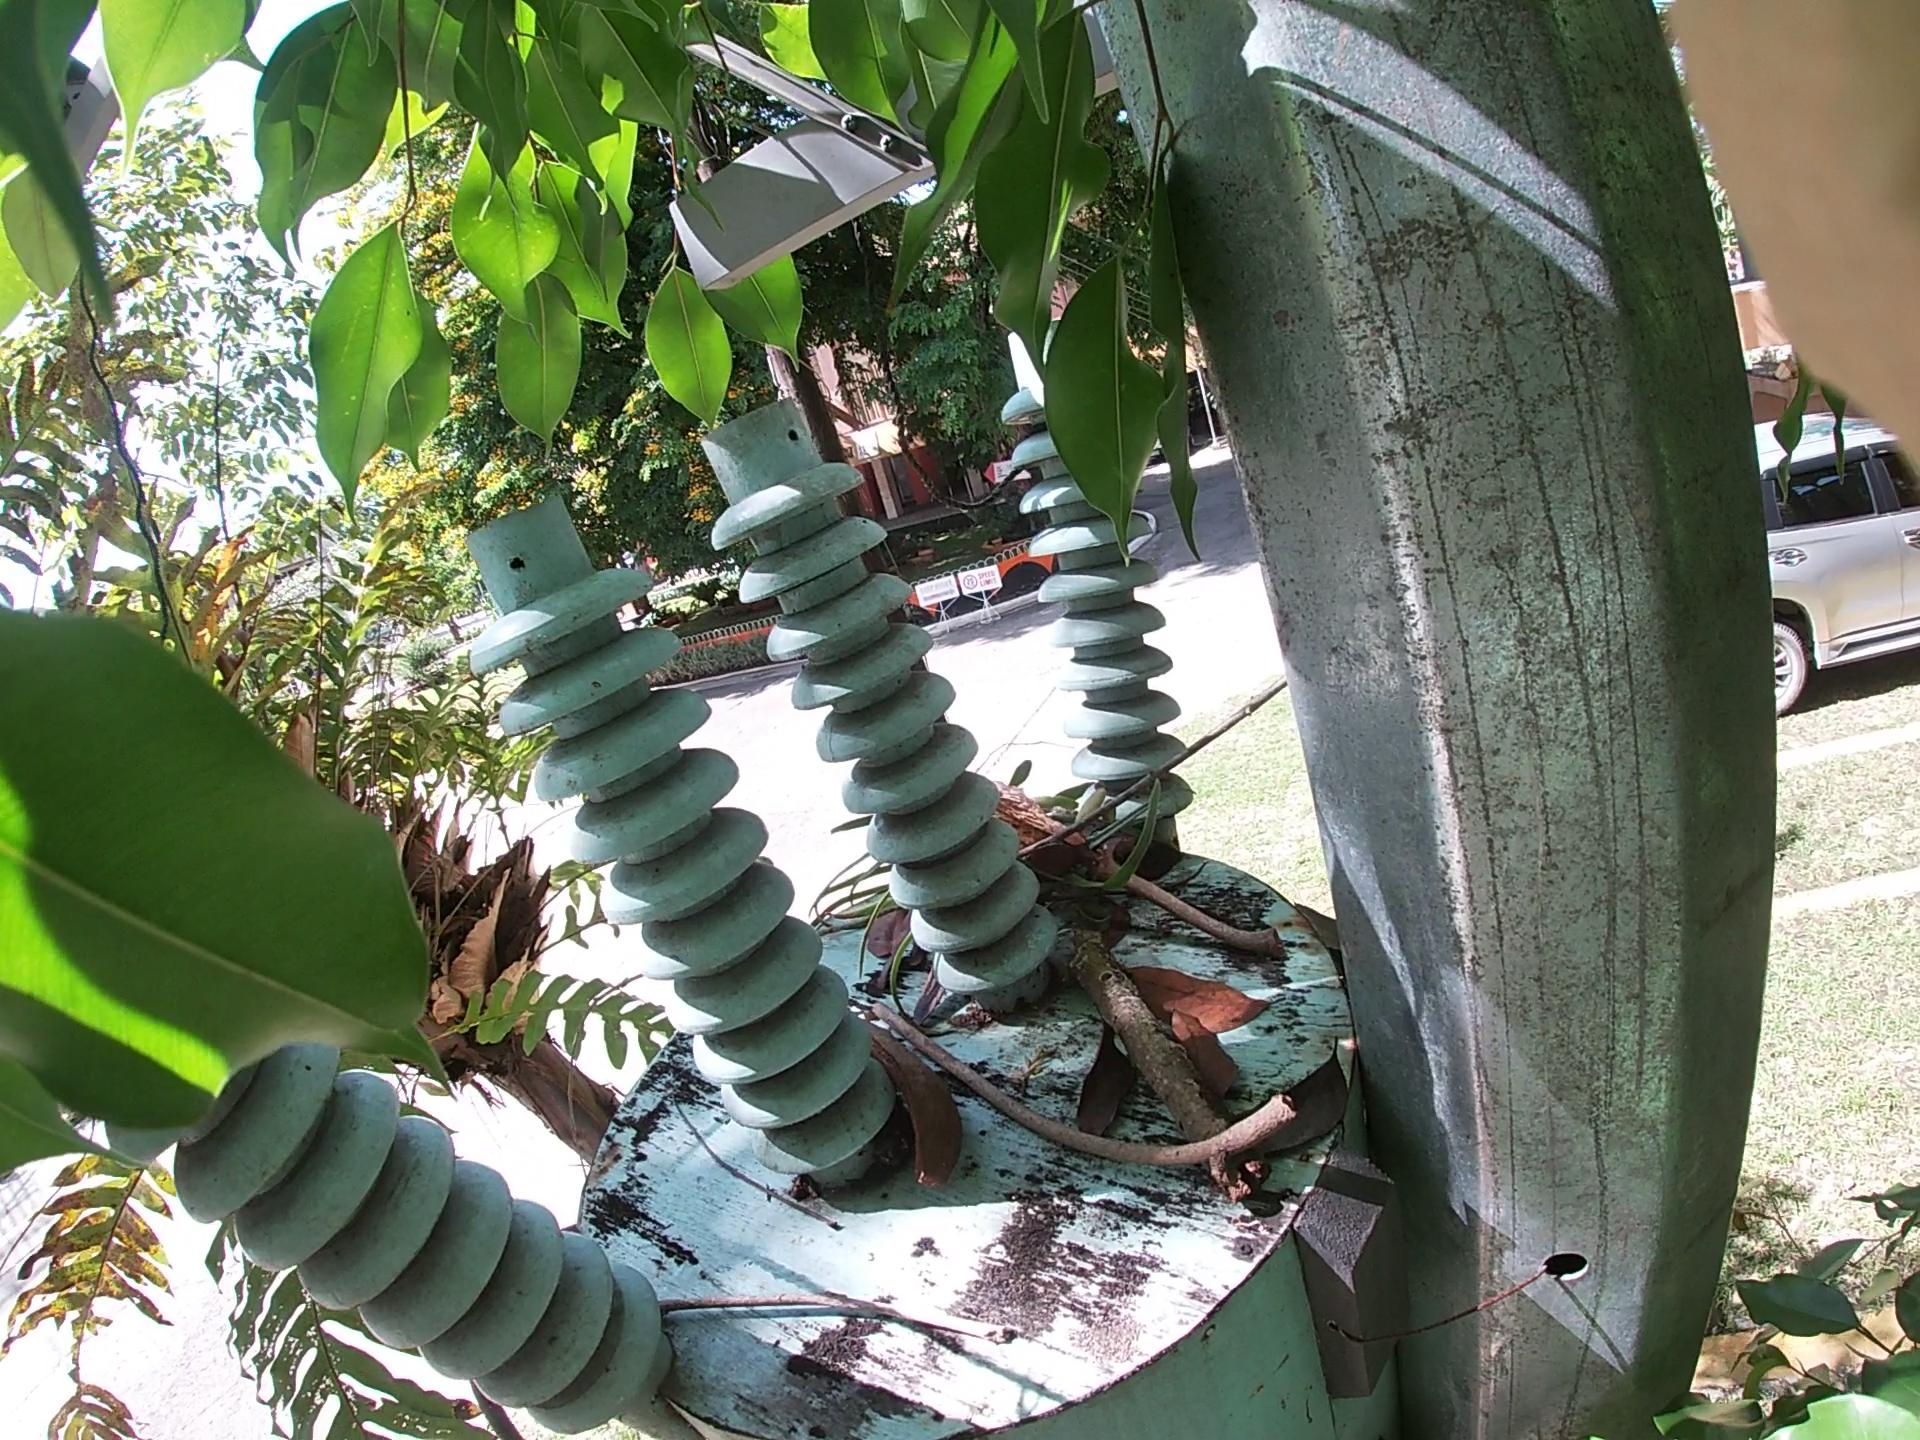branch with leaves: (931, 759, 1302, 1246)
leaf: (1119, 923, 1274, 1141)
tree branch: (581, 1262, 1061, 1352), (1064, 824, 1253, 961)
